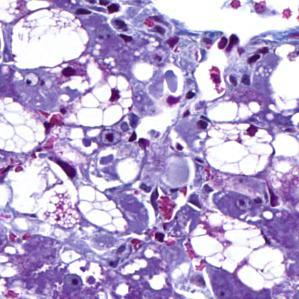ballooning: (186, 211, 287, 294), (7, 6, 92, 74), (202, 120, 277, 179), (59, 73, 133, 129), (4, 95, 49, 159), (76, 185, 129, 234)
